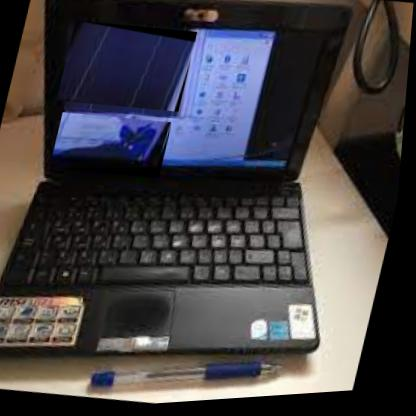crack: (50, 107, 176, 187)
lines: (56, 14, 200, 122)
